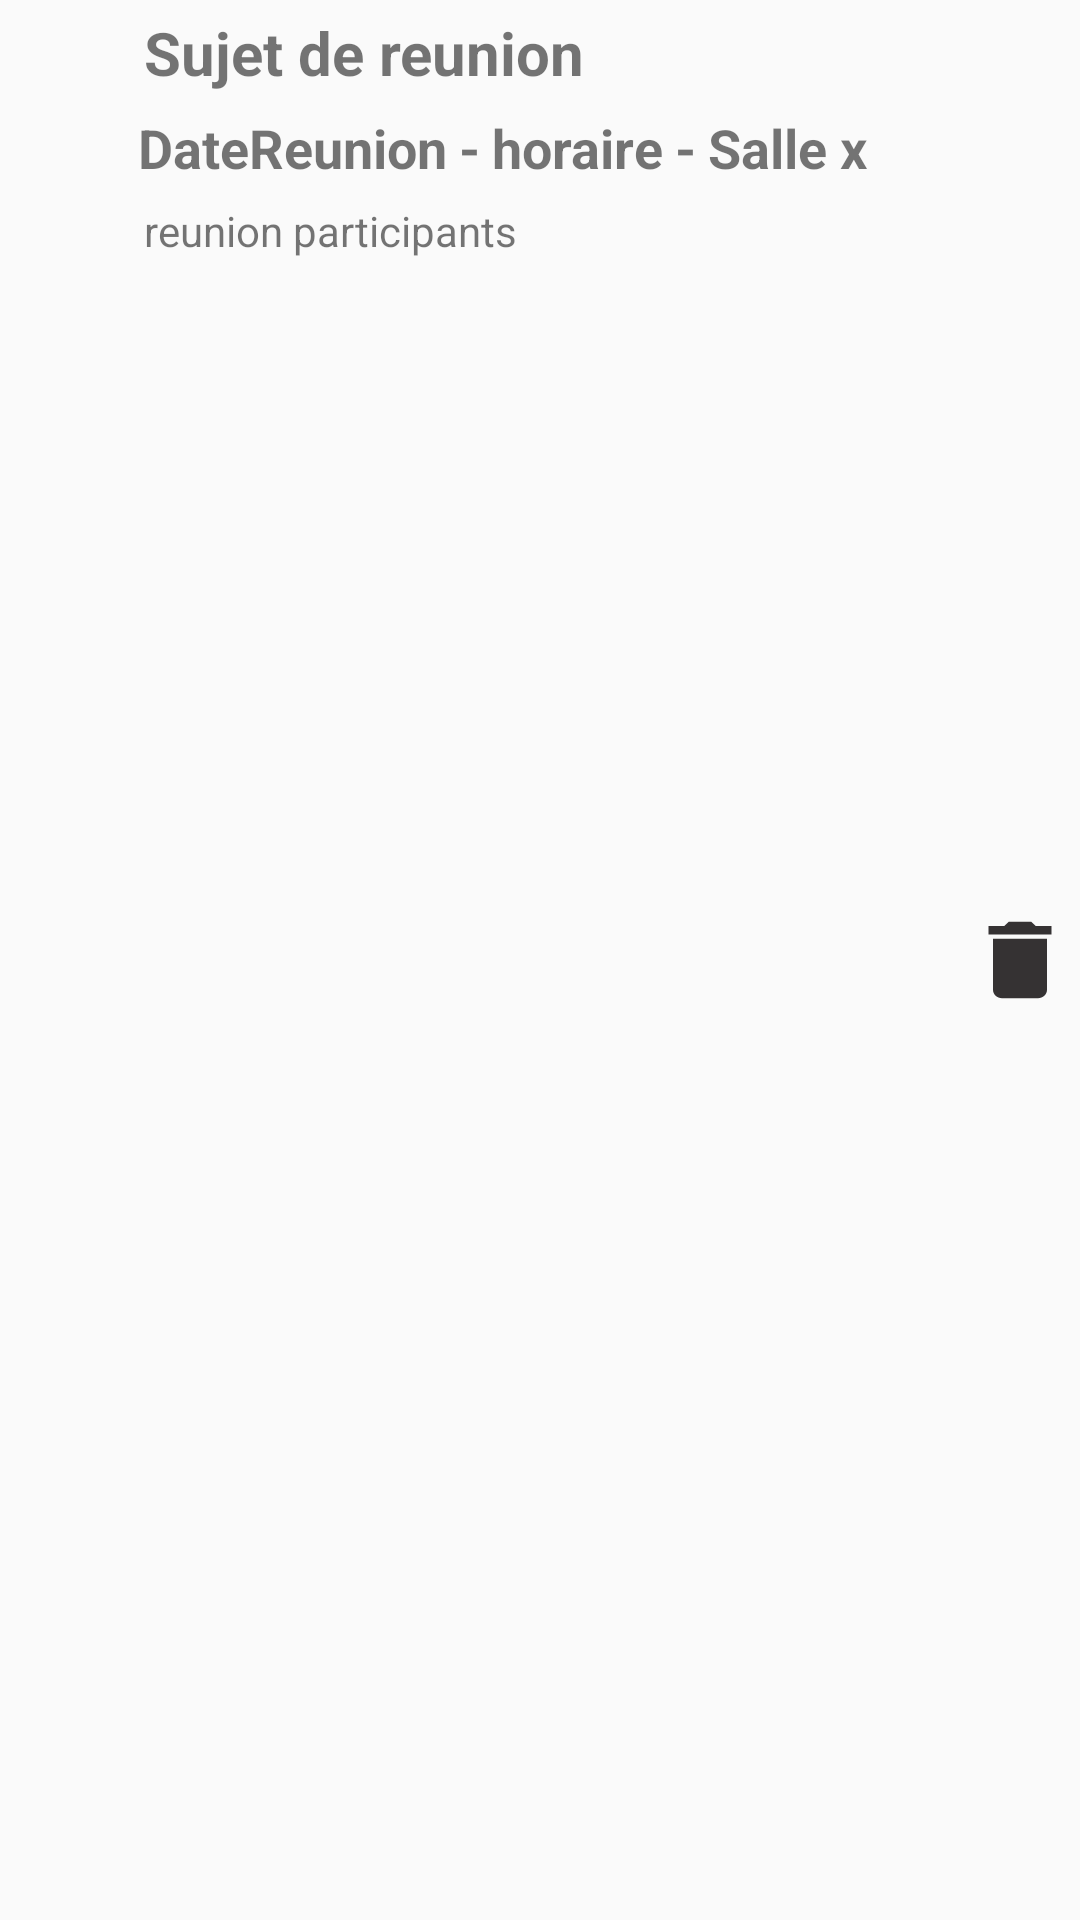

Named icons in this screenshot (1080x1920) and their centers, point (x, y):
delete: point (1020, 960)
